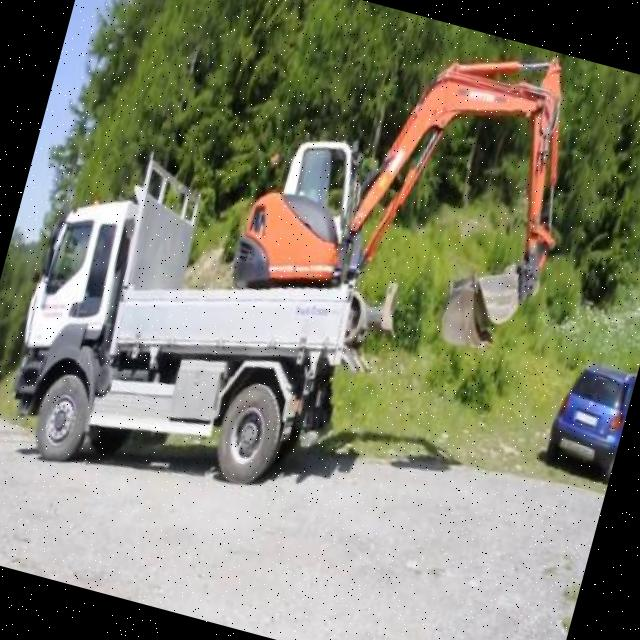Excavator: (221, 0, 604, 372)
